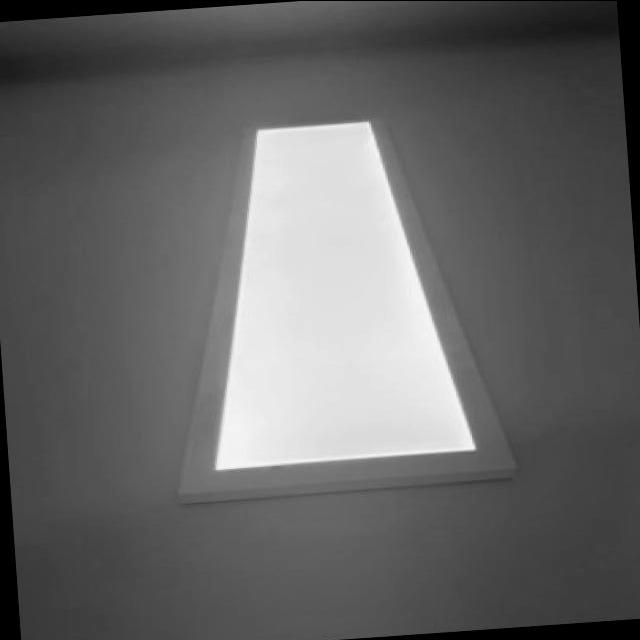light: (178, 118, 520, 505)
